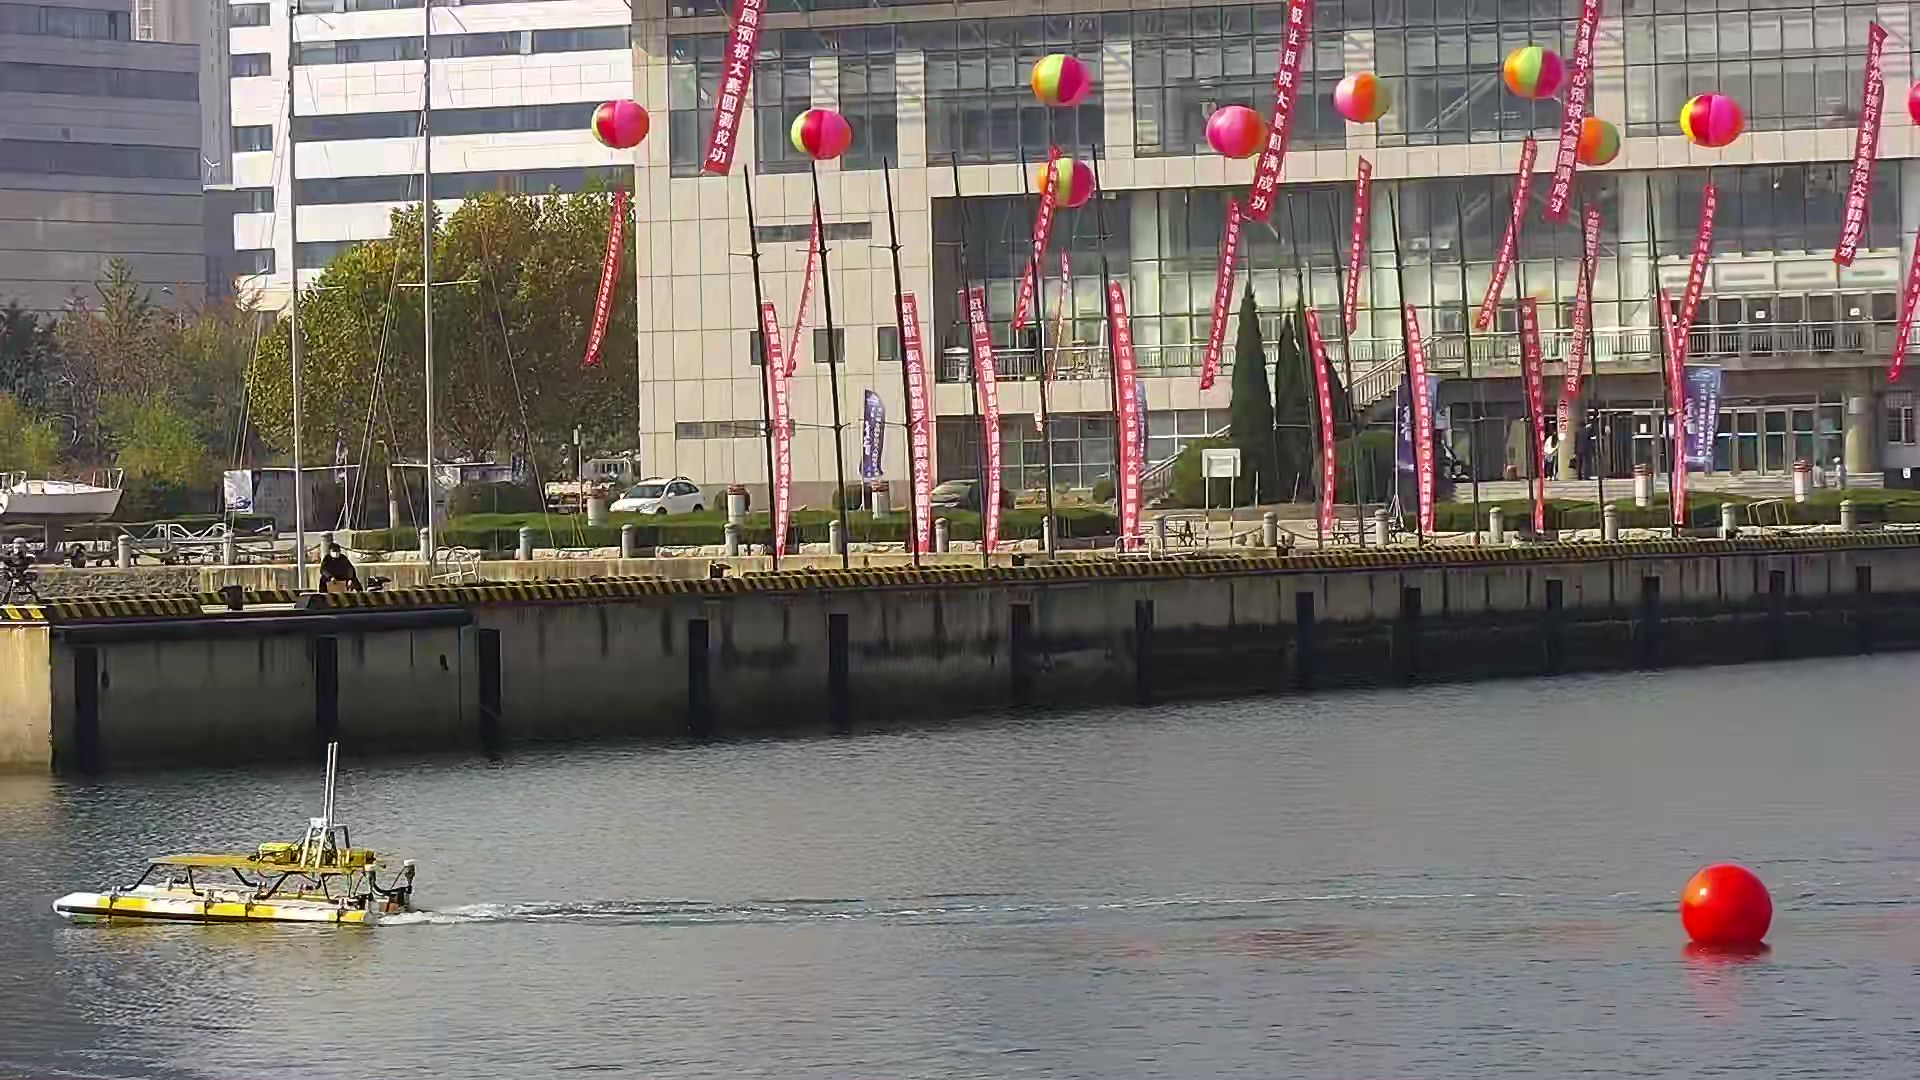ball: (1677, 858, 1772, 953)
boat: (54, 833, 419, 928)
